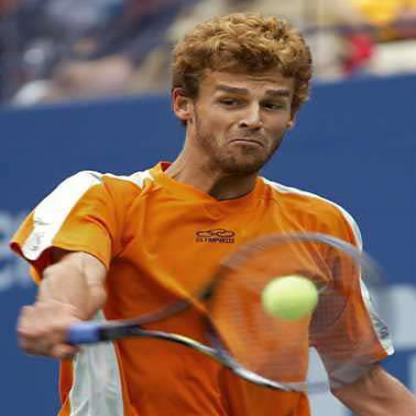face: (192, 32, 298, 174)
